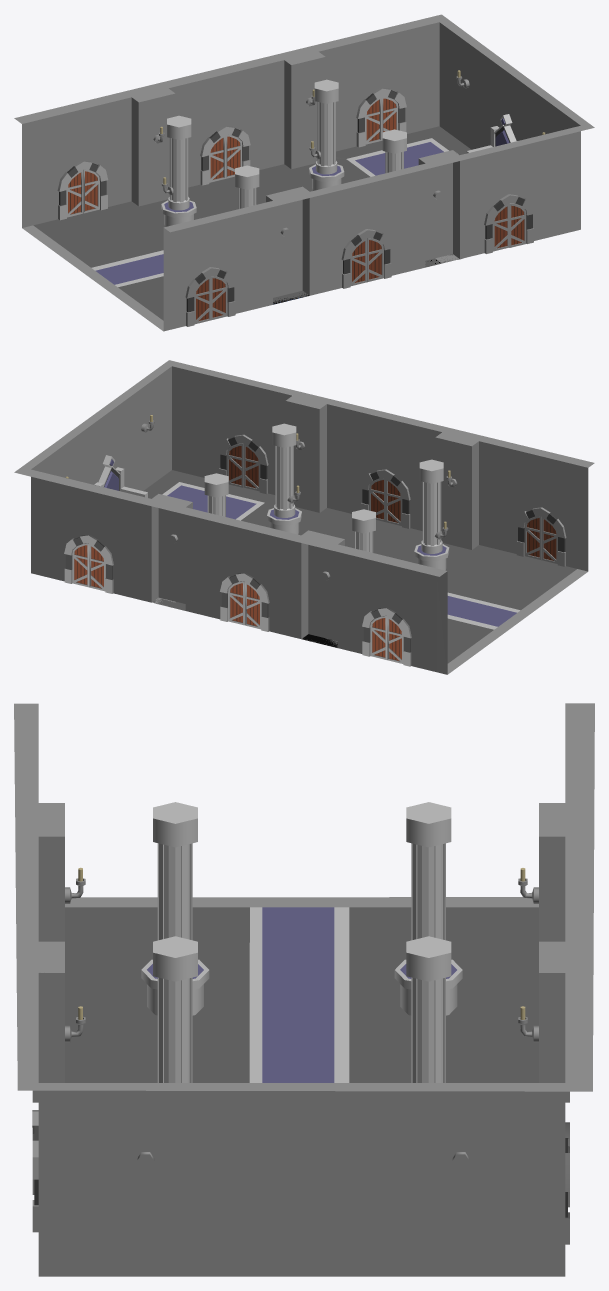
The model's file is Dest_Palace_Field.FBX.
3 renders of one model, top to bottom at view 1: azimuth 30°, elevation 25°; view 2: azimuth 150°, elevation 25°; view 3: azimuth 270°, elevation 25°, orthographic. The views are drawn at different scales.
Parts seen in each view (by area): view 1: Plane001; view 2: Plane001; view 3: Plane001.
Boxes of the visible parts, x1,y1,x2,y2 form: Plane001: (14, 14, 594, 331); Plane001: (14, 360, 594, 674); Plane001: (14, 703, 594, 1276).
Size of the model in its own units: 1741 by 407 by 1101.
